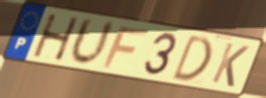3: (143, 31, 179, 77)
D: (169, 33, 214, 83)
F: (100, 26, 151, 70)
H: (31, 13, 81, 63)
K: (209, 41, 251, 90)
U: (67, 15, 117, 68)
